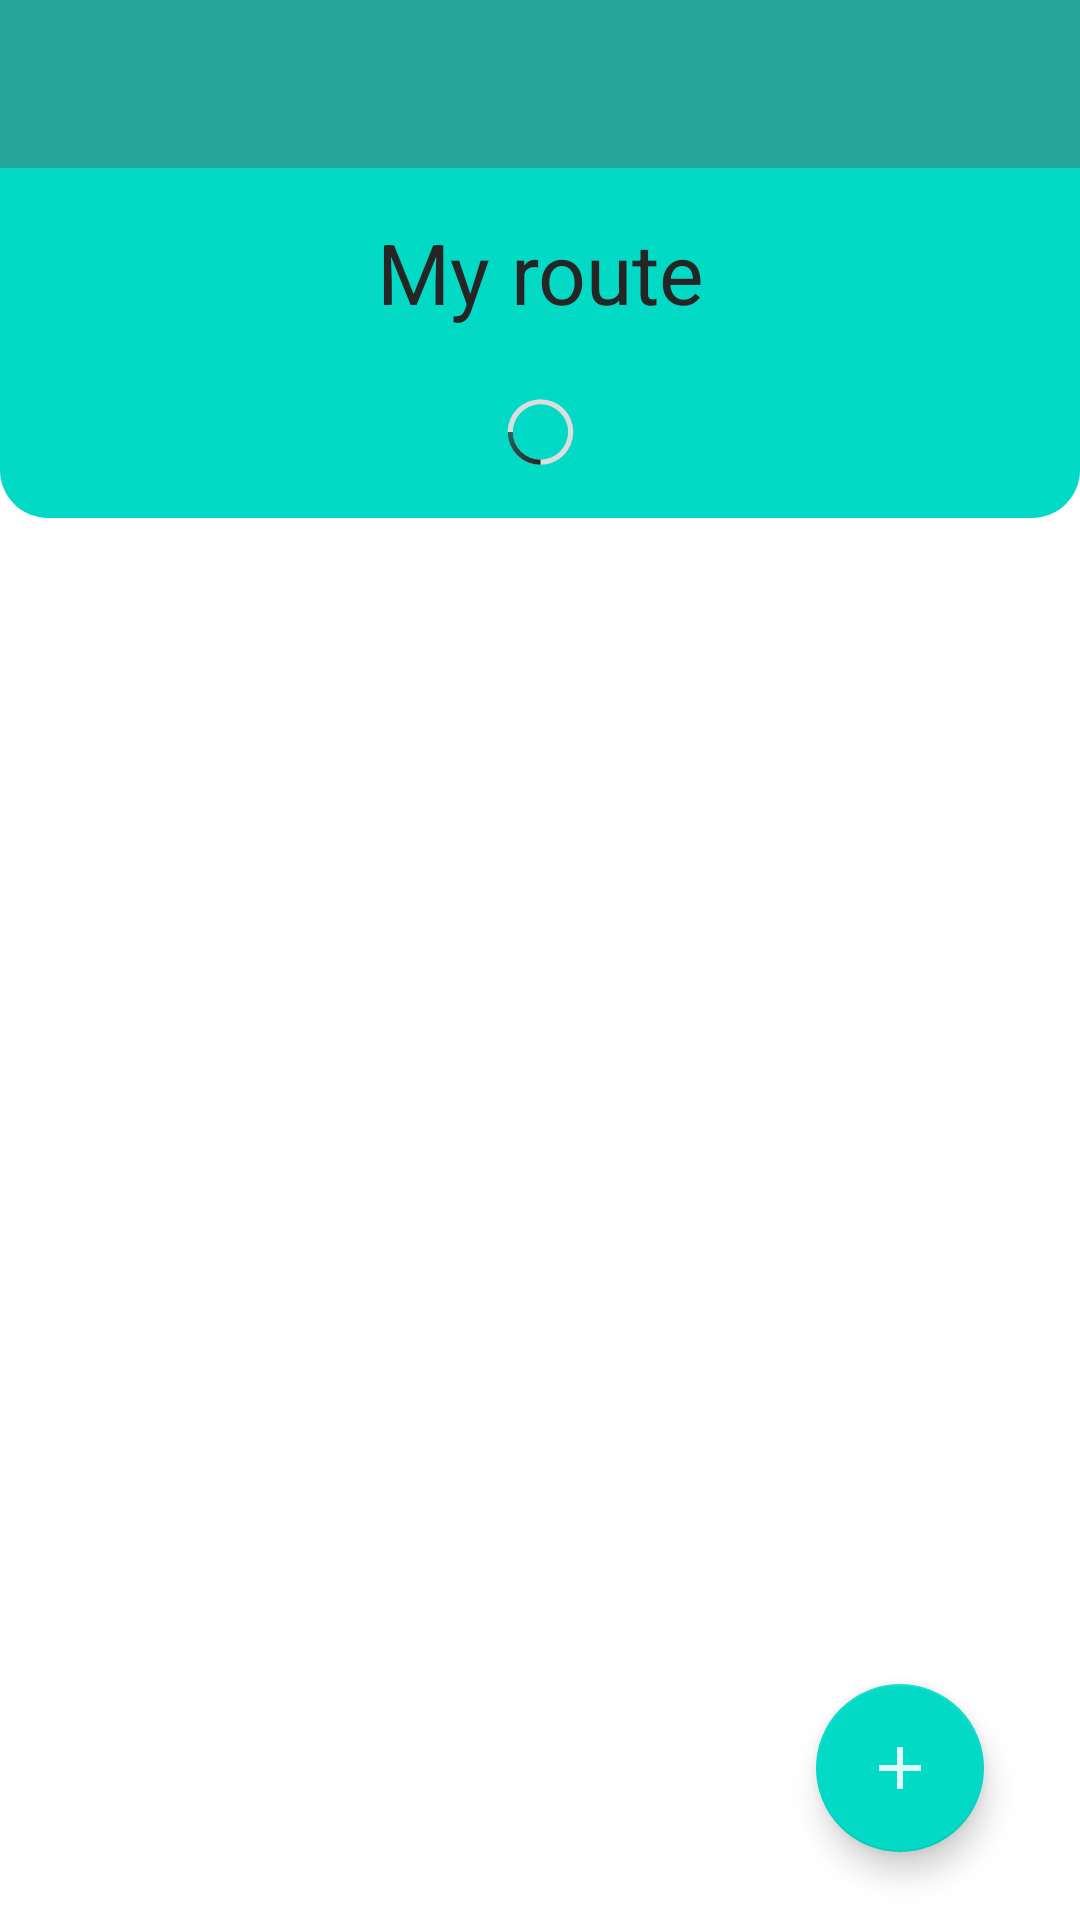

Screen size 1080 x 1920. Icon name, then its box in pixels as (x1, y1, x2, y2):
add: (816, 1684, 984, 1852)
